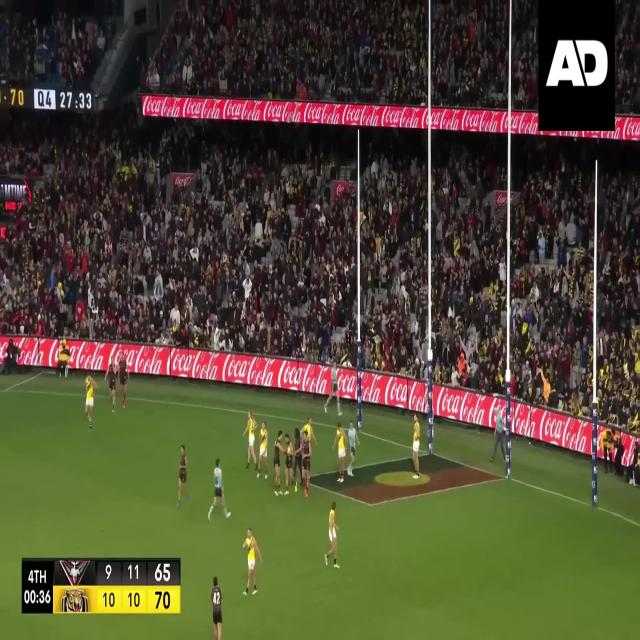crowd: (1, 40, 640, 435), (143, 1, 541, 111), (1, 5, 119, 89), (614, 1, 640, 116)
